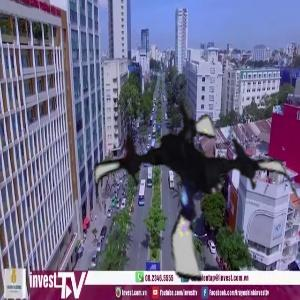drone: (92, 90, 300, 299)
